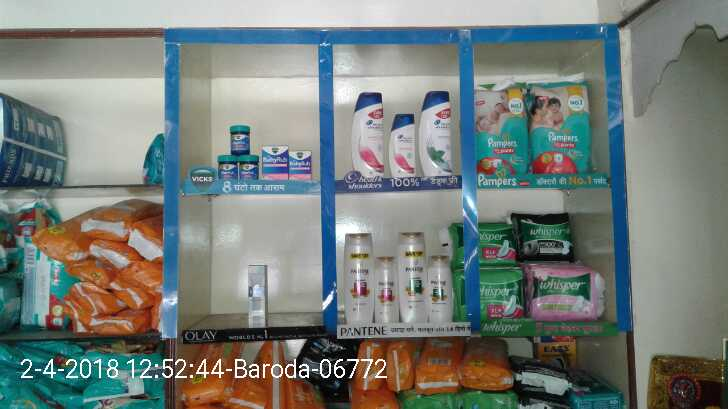vicks: (263, 146, 288, 178), (230, 125, 251, 153), (290, 151, 310, 177), (218, 155, 237, 181), (242, 155, 258, 182)
